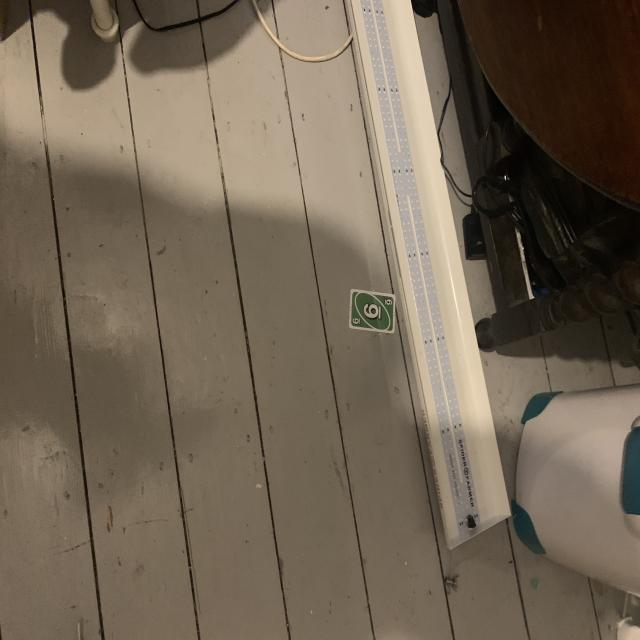lgreen-6: (351, 316, 362, 327)
